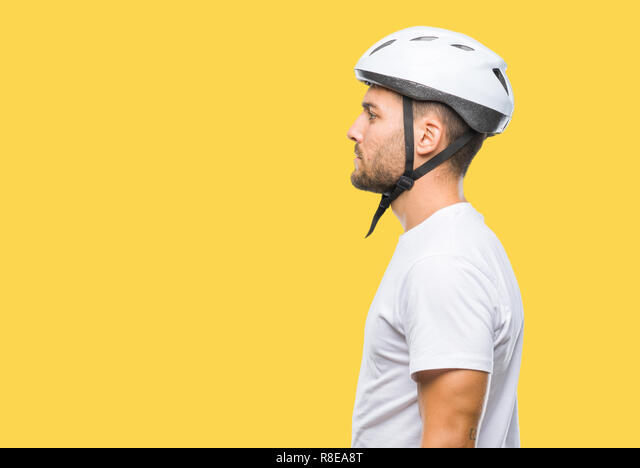helmet: (347, 25, 514, 192)
